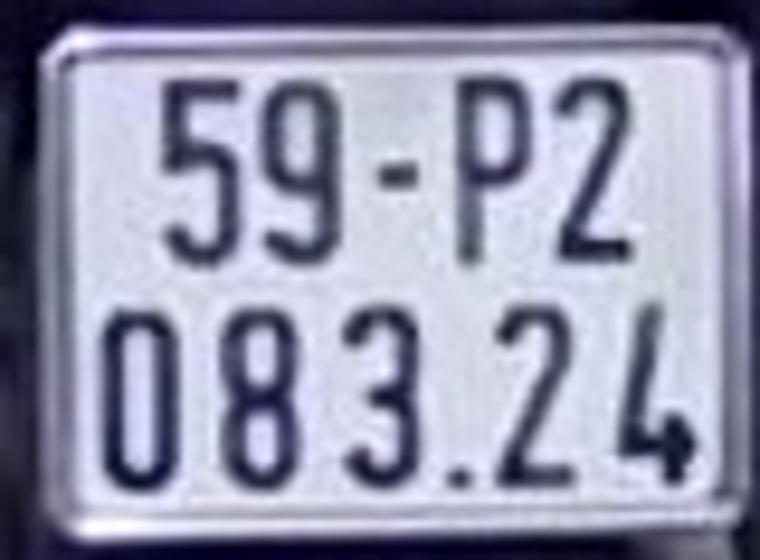-: (374, 155, 422, 195)
0: (102, 315, 181, 490)
2: (491, 308, 575, 489), (554, 77, 631, 263)
3: (347, 307, 417, 486)
4: (617, 299, 696, 488)
5: (158, 78, 242, 267)
8: (221, 307, 301, 494)
9: (259, 80, 347, 265)
P: (451, 75, 530, 267)
